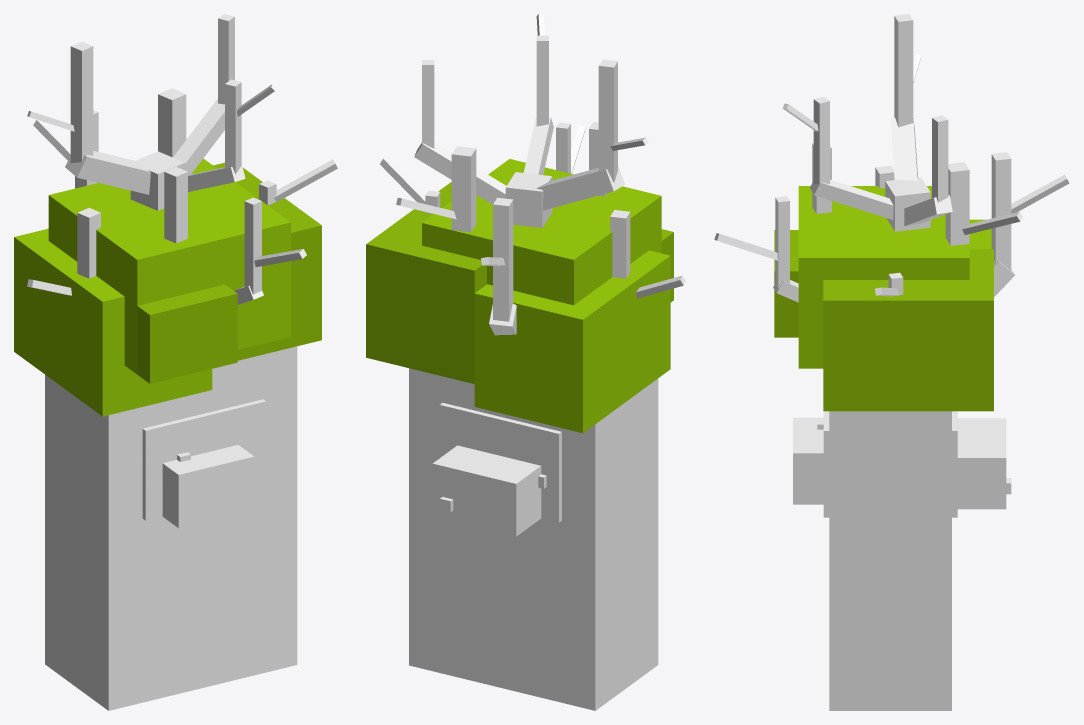
The model's file is Prop.fbx.
The picture shows the model from 3 angles, left to right: view 1: azimuth 30°, elevation 25°; view 2: azimuth 150°, elevation 25°; view 3: azimuth 270°, elevation 25°; orthographic projection. The views are drawn at different scales.
Parts seen in each view (by area): view 1: IceRiver__84_, Tree_1, SM_TreeDry__4__1__7_, Ironore; view 2: IceRiver__84_, Tree_1, SM_TreeDry__4__1__7_, Ironore; view 3: Tree_1, IceRiver__84_, SM_TreeDry__4__1__7_, Ironore.
Boxes of the visible parts, x1=… form: IceRiver__84_: x1=45, y1=346, x2=297, y2=710; Tree_1: x1=14, y1=158, x2=321, y2=416; SM_TreeDry__4__1__7_: x1=27, y1=14, x2=337, y2=304; Ironore: x1=142, y1=399, x2=266, y2=528; IceRiver__84_: x1=409, y1=368, x2=658, y2=710; Tree_1: x1=366, y1=159, x2=673, y2=433; SM_TreeDry__4__1__7_: x1=380, y1=14, x2=685, y2=335; Ironore: x1=432, y1=402, x2=561, y2=536; Tree_1: x1=774, y1=186, x2=993, y2=411; IceRiver__84_: x1=829, y1=411, x2=951, y2=710; SM_TreeDry__4__1__7_: x1=714, y1=14, x2=1069, y2=302; Ironore: x1=793, y1=411, x2=1011, y2=517.
Size of the model in its own units: 588 by 1155 by 610.
